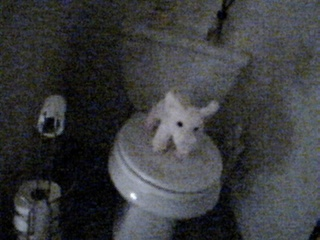piggy: (145, 88, 220, 158)
